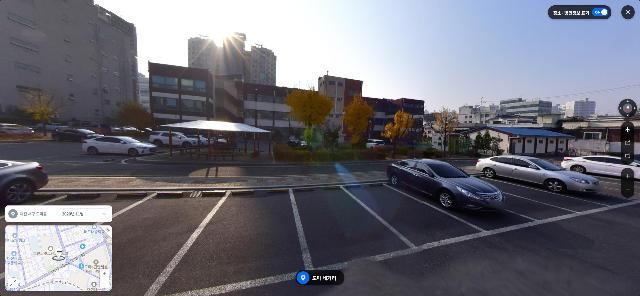ginkgo: (284, 80, 333, 159), (14, 88, 63, 137), (342, 92, 373, 149), (381, 109, 415, 157), (120, 102, 152, 135)
other: (432, 106, 460, 155), (472, 130, 501, 156)
